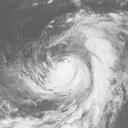cyclone: (21, 16, 100, 107)
